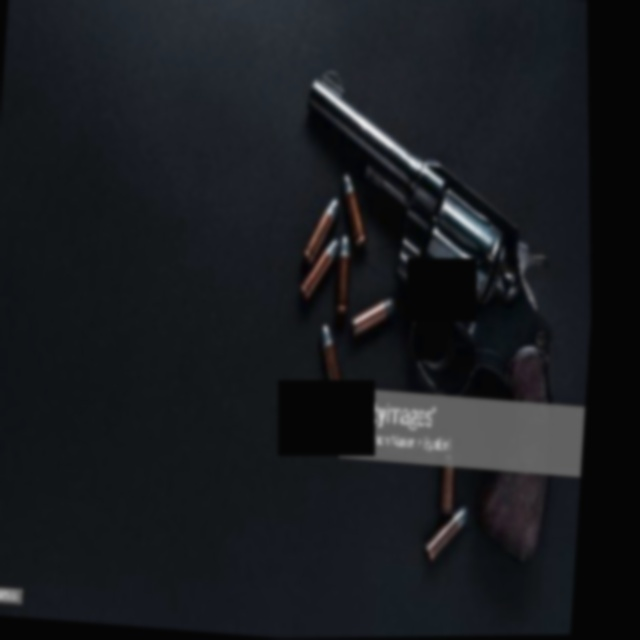gun: (266, 52, 588, 566)
